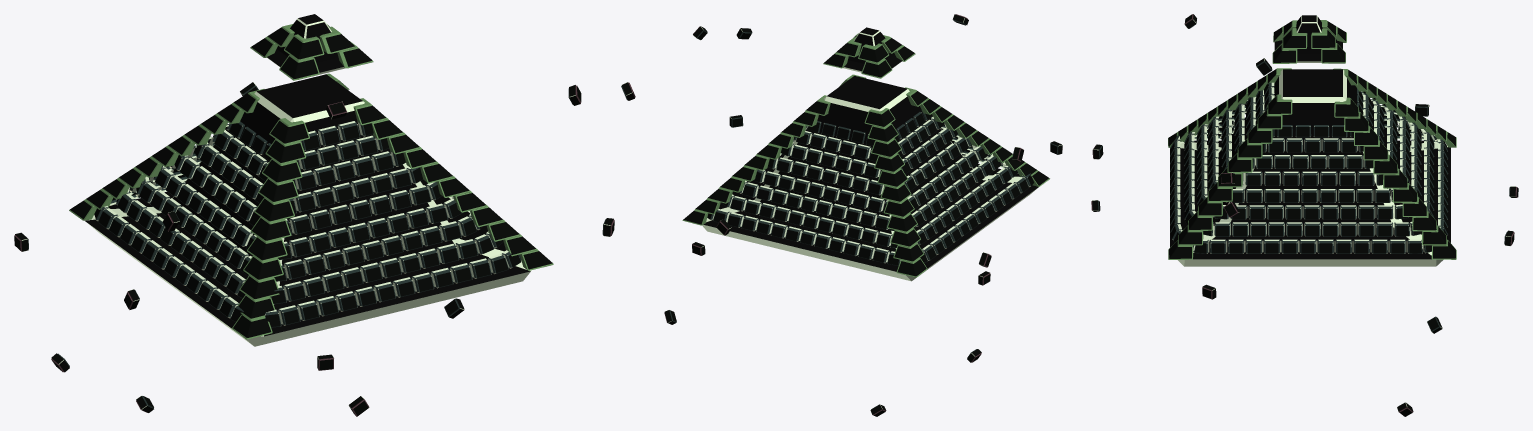
3 views of the same model, side by side, from view 1: azimuth 30°, elevation 25°; view 2: azimuth 150°, elevation 25°; view 3: azimuth 270°, elevation 25° (orthographic). The views are drawn at different scales.
Visible parts, largest first — view 1: Cube, originalBrick, corner, originalBrick01, originalBrick02, originalBrick03, corner.001, originalBrick04, corner.002, originalBrick05, originalBrick06, originalBrick07 (+8 smaller); view 2: Cube, originalBrick, corner.002, originalBrick01, originalBrick02, originalBrick03, corner.003, originalBrick04, originalBrick05, corner, originalBrick06, originalBrick07 (+7 smaller); view 3: Cube, originalBrick, originalBrick01, originalBrick02, corner.003, corner.001, originalBrick03, originalBrick04, originalBrick05, originalBrick06, corner.002, corner (+6 smaller).
Part boxes in pixels (x1=…): Cube: x1=84, y1=74, x2=531, y2=346; originalBrick: x1=94, y1=181, x2=521, y2=327; corner: x1=232, y1=118, x2=309, y2=339; originalBrick01: x1=116, y1=175, x2=503, y2=304; originalBrick02: x1=136, y1=168, x2=482, y2=281; originalBrick03: x1=153, y1=157, x2=462, y2=259; corner.001: x1=353, y1=98, x2=553, y2=270; originalBrick04: x1=174, y1=145, x2=441, y2=235; corner.002: x1=69, y1=89, x2=264, y2=220; originalBrick05: x1=194, y1=135, x2=423, y2=213; originalBrick06: x1=212, y1=123, x2=405, y2=190; originalBrick07: x1=227, y1=121, x2=389, y2=170; Cube: x1=702, y1=76, x2=1038, y2=281; originalBrick: x1=707, y1=153, x2=1033, y2=265; corner.002: x1=864, y1=108, x2=927, y2=277; originalBrick01: x1=721, y1=150, x2=1017, y2=247; originalBrick02: x1=739, y1=140, x2=1002, y2=230; originalBrick03: x1=753, y1=136, x2=988, y2=212; corner.003: x1=682, y1=95, x2=830, y2=225; originalBrick04: x1=768, y1=128, x2=971, y2=195; originalBrick05: x1=781, y1=124, x2=957, y2=177; corner: x1=905, y1=87, x2=1049, y2=186; originalBrick06: x1=793, y1=116, x2=944, y2=161; originalBrick07: x1=806, y1=110, x2=932, y2=145; Cube: x1=1170, y1=69, x2=1450, y2=266; originalBrick: x1=1170, y1=129, x2=1448, y2=253; originalBrick01: x1=1184, y1=125, x2=1434, y2=236; originalBrick02: x1=1196, y1=119, x2=1421, y2=219; corner.003: x1=1334, y1=97, x2=1456, y2=259; corner.001: x1=1168, y1=94, x2=1292, y2=259; originalBrick03: x1=1208, y1=111, x2=1410, y2=202; originalBrick04: x1=1221, y1=105, x2=1397, y2=185; originalBrick05: x1=1234, y1=99, x2=1384, y2=168; originalBrick06: x1=1246, y1=92, x2=1372, y2=152; corner.002: x1=1333, y1=68, x2=1456, y2=147; corner: x1=1168, y1=68, x2=1291, y2=147.
Bounding box in the file's own units: 276 × 225 × 250.
Materials: 4 (4 with a texture image).
